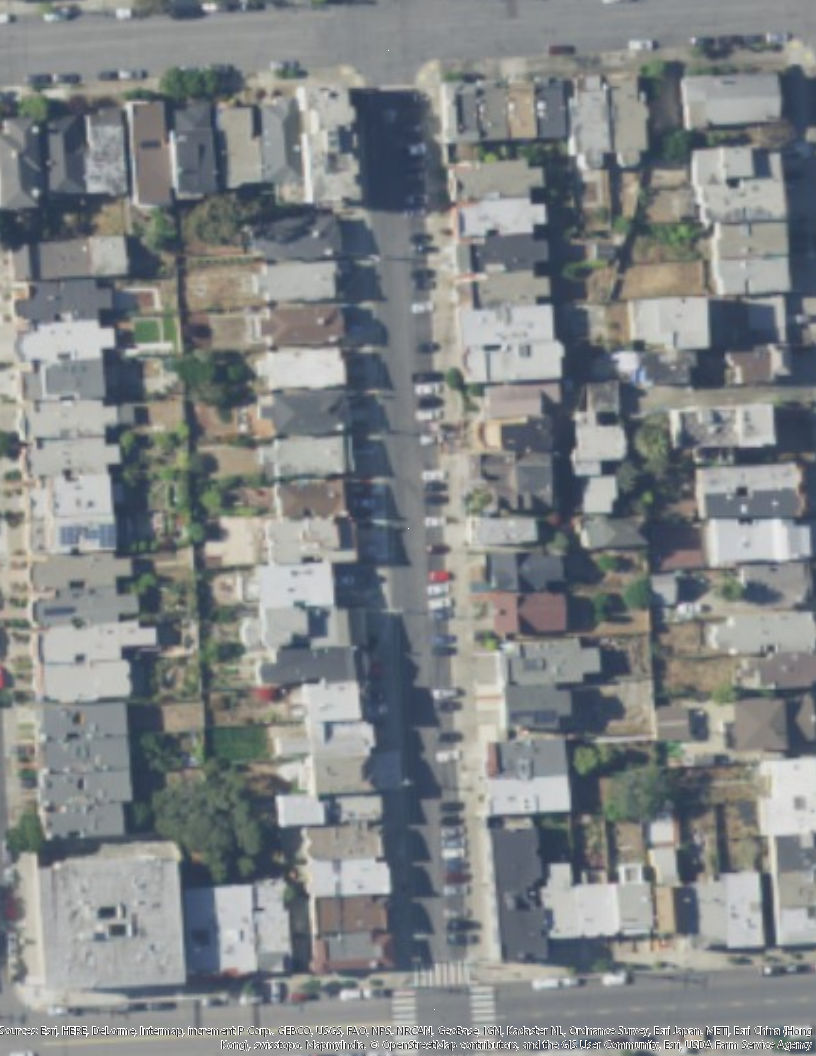zebracross: (471, 984, 498, 1045), (411, 960, 470, 987), (396, 992, 418, 1051)
